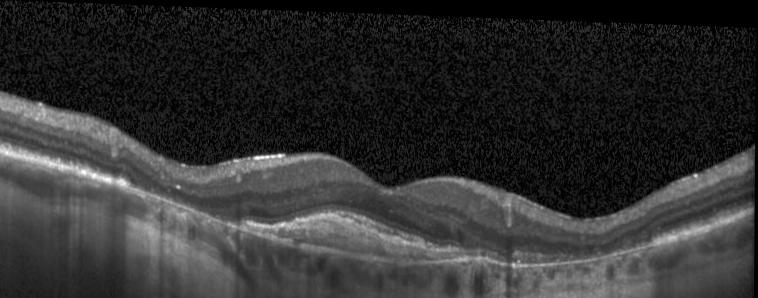subretinal_hyperreflective_material: (244, 208, 462, 255)
